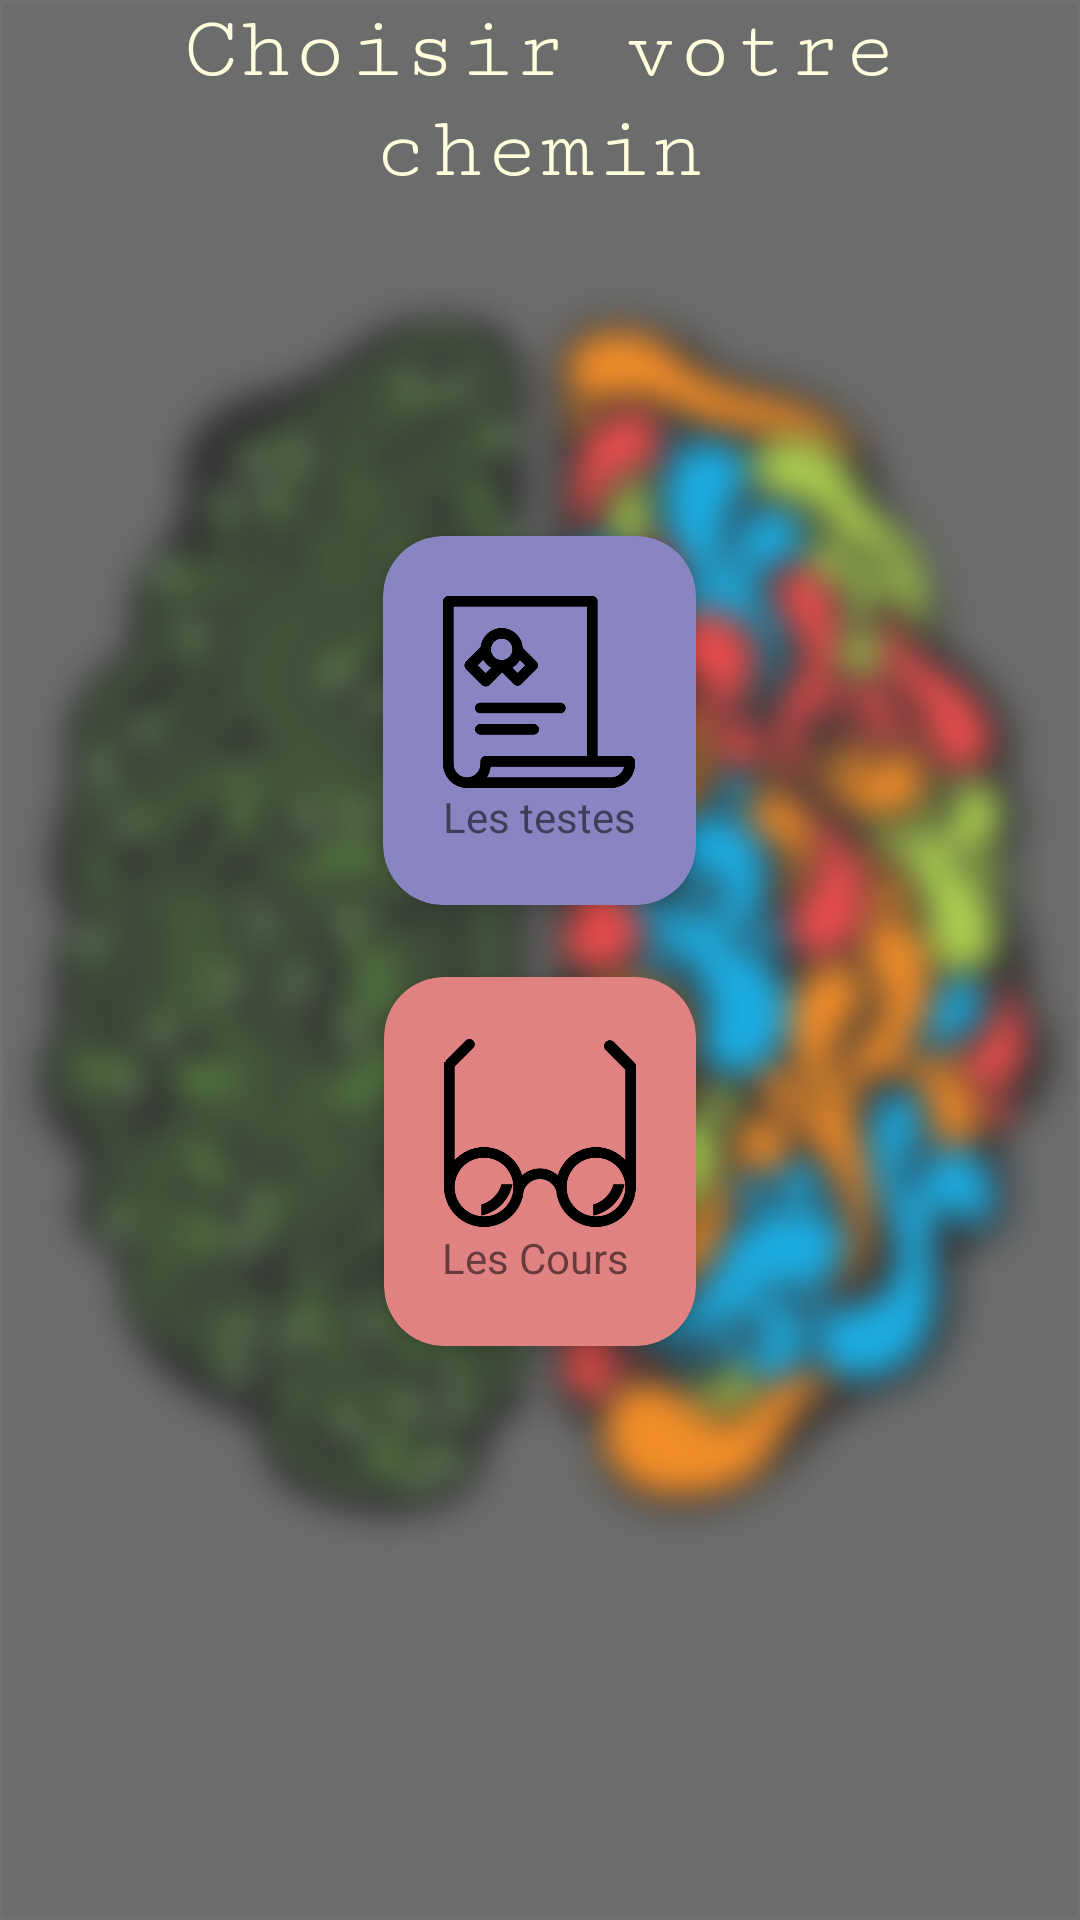

Named icons in this screenshot (1080x1920) and their bounding boxes, (x1,y1,x2,y2):
diploma: (443,596,635,788)
glasses: (444,1039,636,1227)
